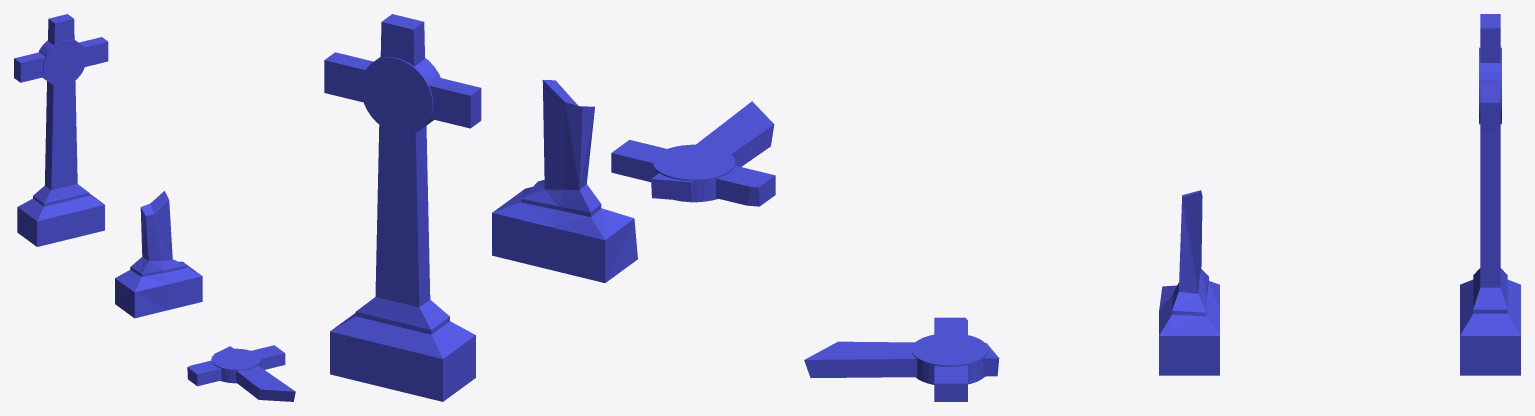
Rendered from Total Assets2.fbx_Headstone03.fbx.
3 views of the same model, side by side, from view 1: azimuth 30°, elevation 25°; view 2: azimuth 150°, elevation 25°; view 3: azimuth 270°, elevation 25° (orthographic). The views are drawn at different scales.
Parts seen in each view (by area): view 1: headstones_3, headstones_3_002, headstones_3_001; view 2: headstones_3, headstones_3_002, headstones_3_001; view 3: headstones_3, headstones_3_001, headstones_3_002.
Part boxes in pixels (x1,y1,x2,y2): headstones_3: (14,14,108,246); headstones_3_002: (115,191,202,318); headstones_3_001: (187,345,295,401); headstones_3: (324,14,481,401); headstones_3_002: (492,80,637,282); headstones_3_001: (611,101,775,206); headstones_3: (1460,14,1520,375); headstones_3_001: (804,317,999,401); headstones_3_002: (1159,190,1219,375).
Size of the model in its own units: 90.43 by 222 by 414.
